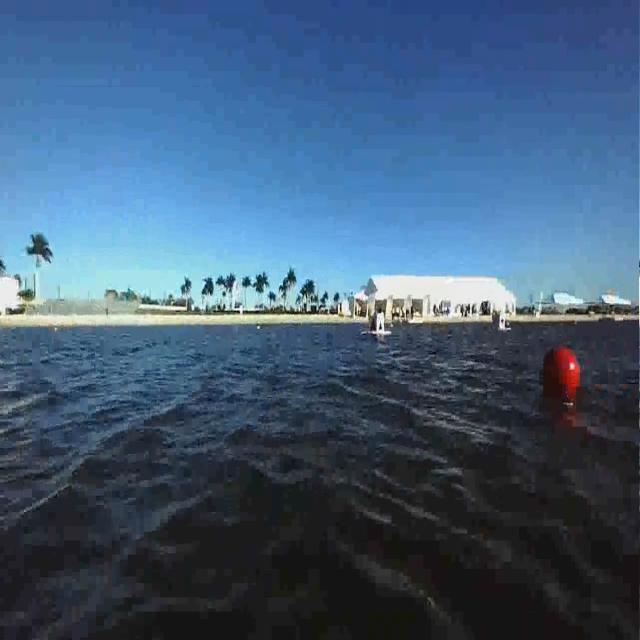red-buoy: (542, 349, 581, 400)
